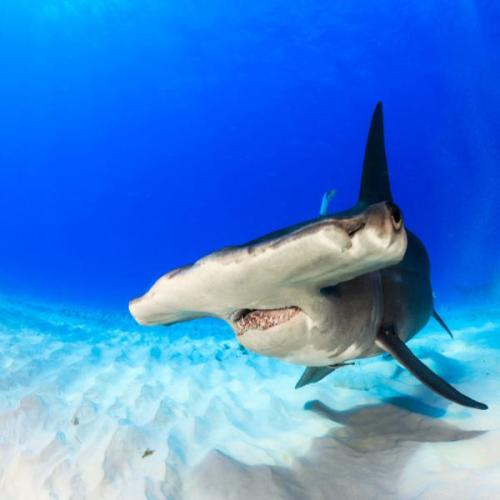shark-endangered: (125, 100, 489, 411)
